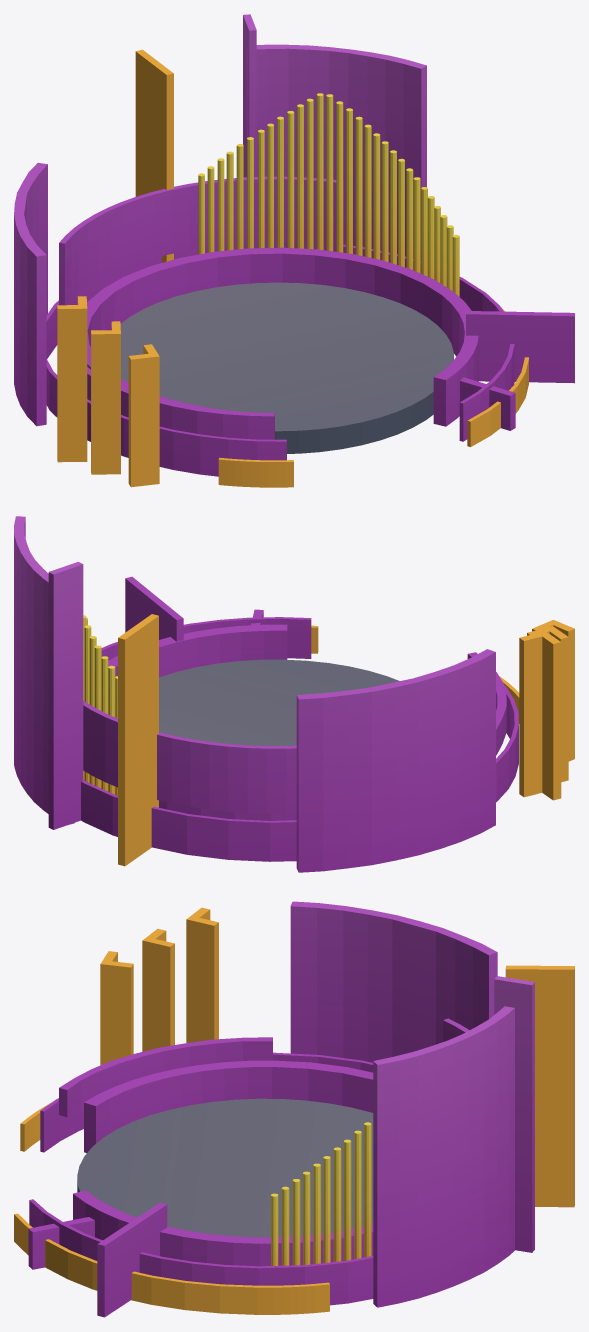
The model's file is Stage4.fbx.
3 views of the same model, one above another, from view 1: azimuth 30°, elevation 25°; view 2: azimuth 150°, elevation 25°; view 3: azimuth 270°, elevation 25° (orthographic). The views are drawn at different scales.
Parts seen in each view (by area): view 1: Shape002_Material #26_1, Line005_Material #41_1, Cylinder001_Material #43_1; view 2: Shape002_Material #26_1, Line005_Material #41_1, Cylinder001_Material #43_1; view 3: Shape002_Material #26_1, Line005_Material #41_1, Cylinder001_Material #43_1.
Part boxes in pixels (<box>): Shape002_Material #26_1: <box>14,14,574,476</box>; Line005_Material #41_1: <box>57,49,528,487</box>; Cylinder001_Material #43_1: <box>120,282,453,453</box>; Shape002_Material #26_1: <box>14,516,518,872</box>; Line005_Material #41_1: <box>83,614,574,866</box>; Cylinder001_Material #43_1: <box>159,659,399,745</box>; Shape002_Material #26_1: <box>28,901,534,1317</box>; Line005_Material #41_1: <box>14,907,574,1314</box>; Cylinder001_Material #43_1: <box>77,1098,373,1237</box>.
Size of the model in its own units: 775 by 393 by 745.
1 material, 1 textured.
